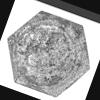hexagonal: (0, 2, 100, 100)
